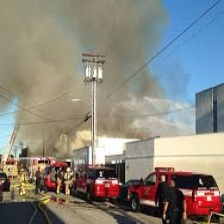smoke: (1, 9, 156, 139)
